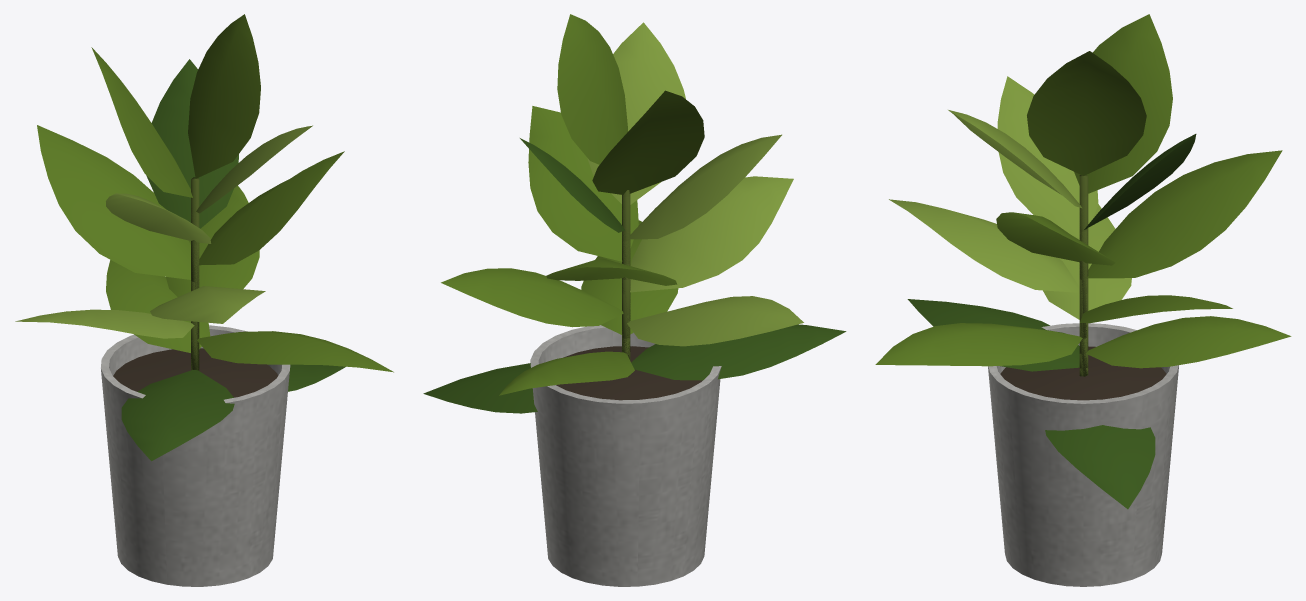
Rendered from greenery.plant-small.glb.
The picture shows the model from 3 angles, left to right: view 1: azimuth 30°, elevation 25°; view 2: azimuth 150°, elevation 25°; view 3: azimuth 270°, elevation 25°; orthographic projection.
Visible parts, largest first — view 1: greenery.plant-small.001; view 2: greenery.plant-small.001; view 3: greenery.plant-small.001.
Boxes of the visible parts, x1,y1,x2,y2 form: greenery.plant-small.001: [15, 14, 393, 586]; greenery.plant-small.001: [423, 14, 846, 586]; greenery.plant-small.001: [875, 14, 1291, 586].
Size of the model in its own units: 0.3 by 0.42 by 0.3.
Materials: 6 (1 with a texture image).
